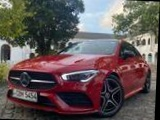car: (6, 34, 154, 119)
